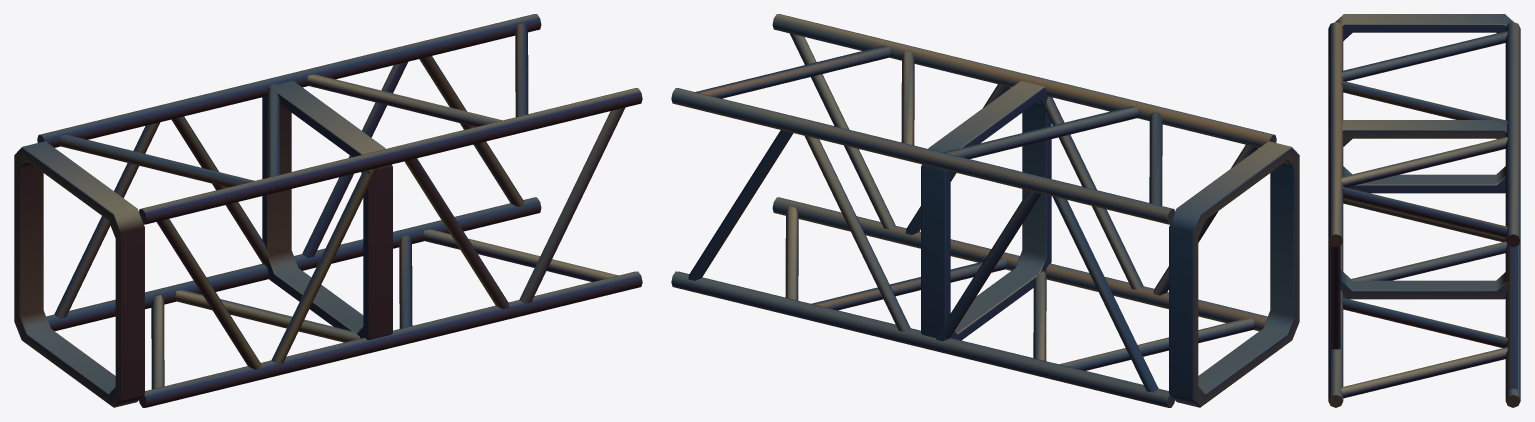
Rendered from Platform_Truss_01.fbx.
3 views of the same model, side by side, from view 1: azimuth 30°, elevation 25°; view 2: azimuth 150°, elevation 25°; view 3: azimuth 270°, elevation 25° (orthographic). The views are drawn at different scales.
Visible parts, largest first — view 1: Platform_Truss; view 2: Platform_Truss; view 3: Platform_Truss.
Part boxes in pixels (x1=…): Platform_Truss: x1=14, y1=14, x2=642, y2=407; Platform_Truss: x1=671, y1=14, x2=1299, y2=407; Platform_Truss: x1=1328, y1=14, x2=1520, y2=407.
Bounding box in the file's own units: 210 × 76.71 × 76.71.
